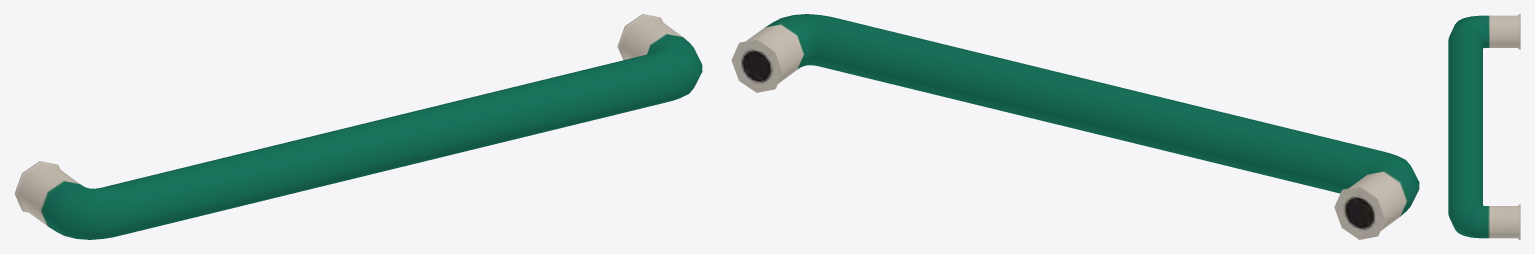
3 renders of one model, left to right at view 1: azimuth 30°, elevation 25°; view 2: azimuth 150°, elevation 25°; view 3: azimuth 270°, elevation 25°, orthographic. The views are drawn at different scales.
Bounding box in the file's own units: 9.97 × 0.7725 × 1.48.
1 material, 1 textured.
